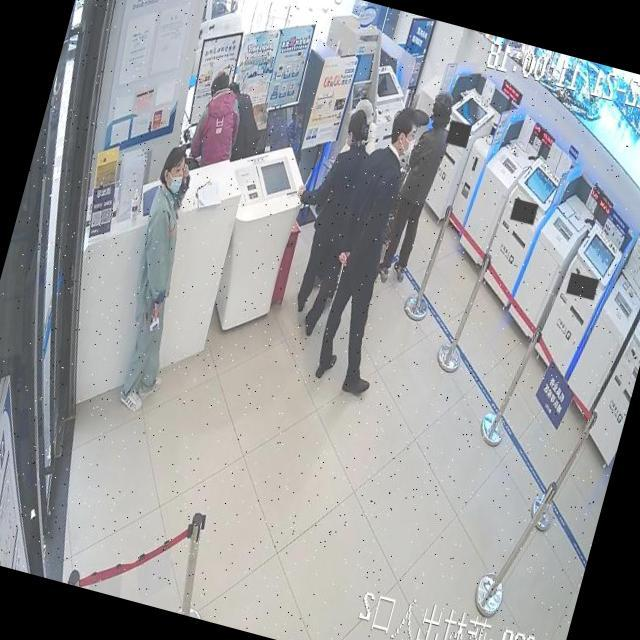person: (303, 100, 442, 400), (98, 143, 220, 415), (262, 95, 383, 338), (374, 91, 458, 288), (184, 66, 252, 176)
